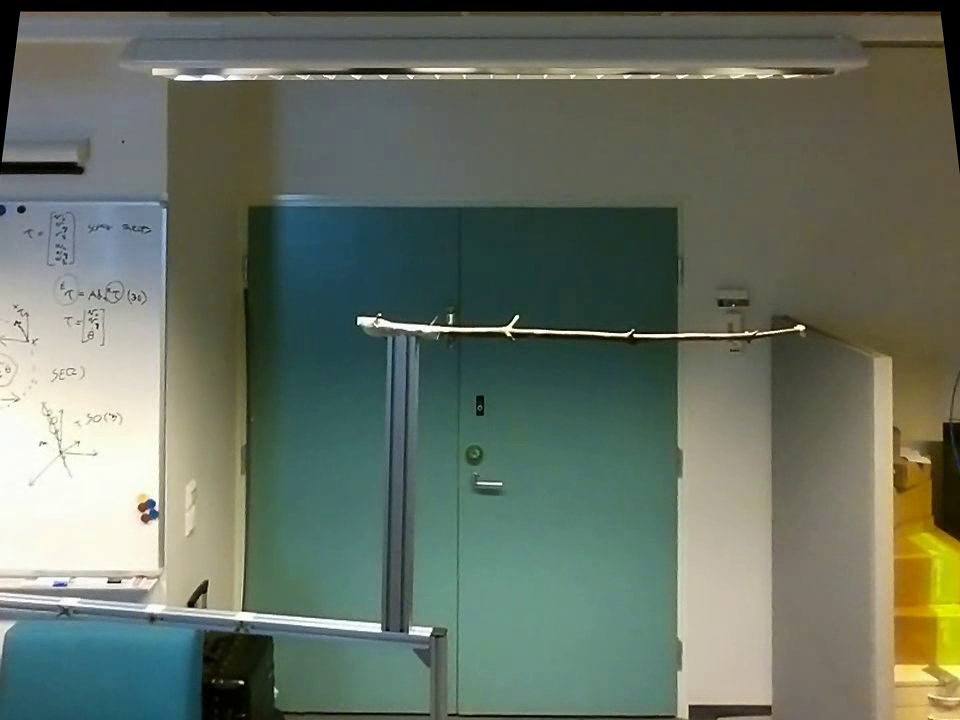aluminum_frame: (1, 584, 423, 653), (376, 339, 416, 628), (153, 192, 172, 580), (0, 561, 167, 596), (2, 187, 180, 214), (423, 620, 457, 716)
branch: (446, 310, 789, 360)
